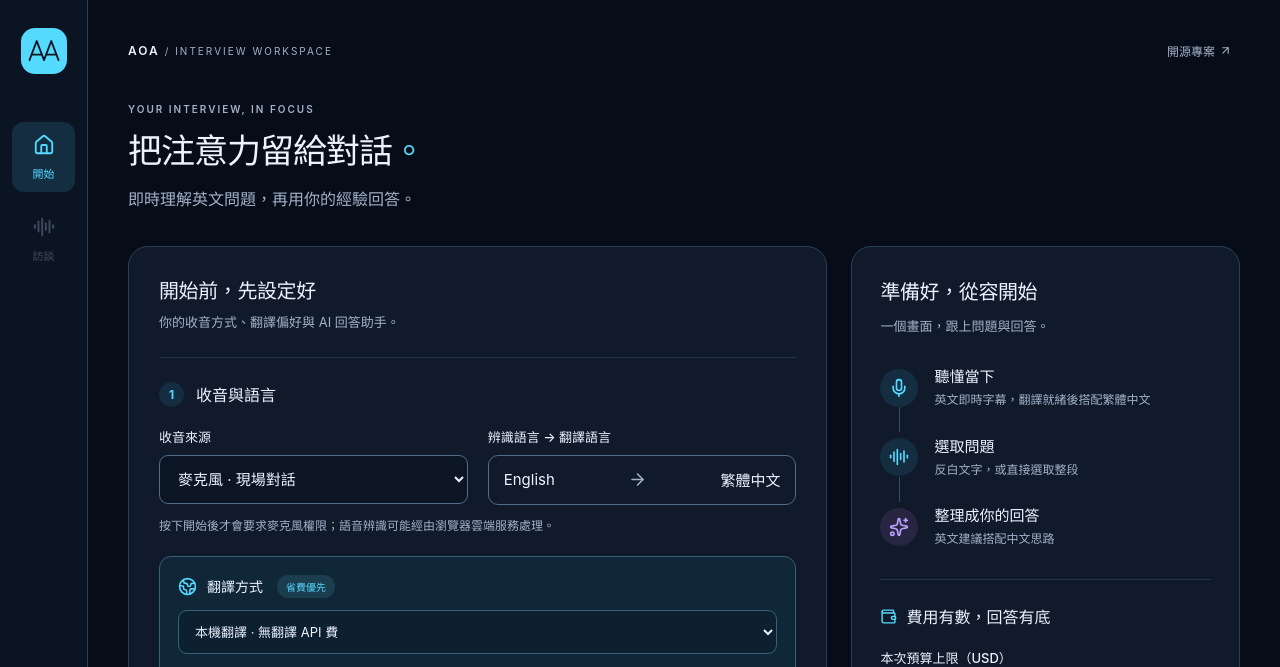
non-secret setup preferences › continues to allow explicit choices when storage reads and writes are denied
Select "雲端翻譯 · 會使用付費 API" in the dropdown labelled "翻譯方式" at (478, 632), box [178,610,777,654]
(page scrolled)
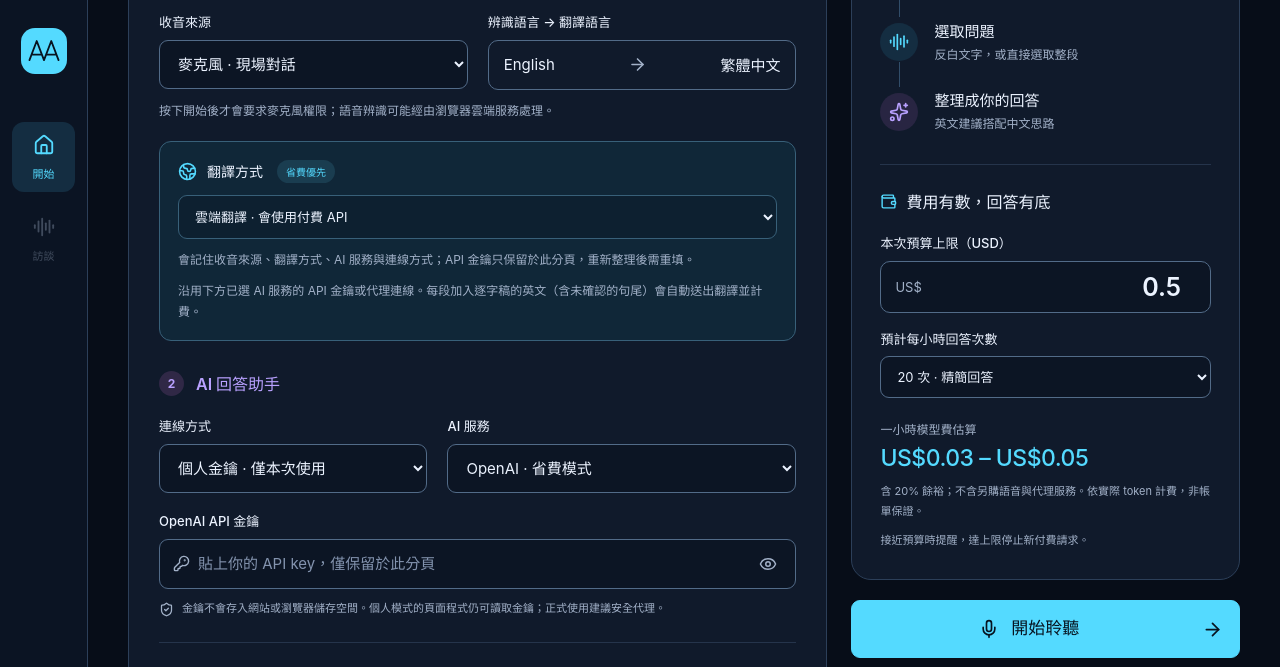
Type "test-only-key" into the password field labelled "OpenAI API 金鑰" at (470, 564), box [198,540,741,588]
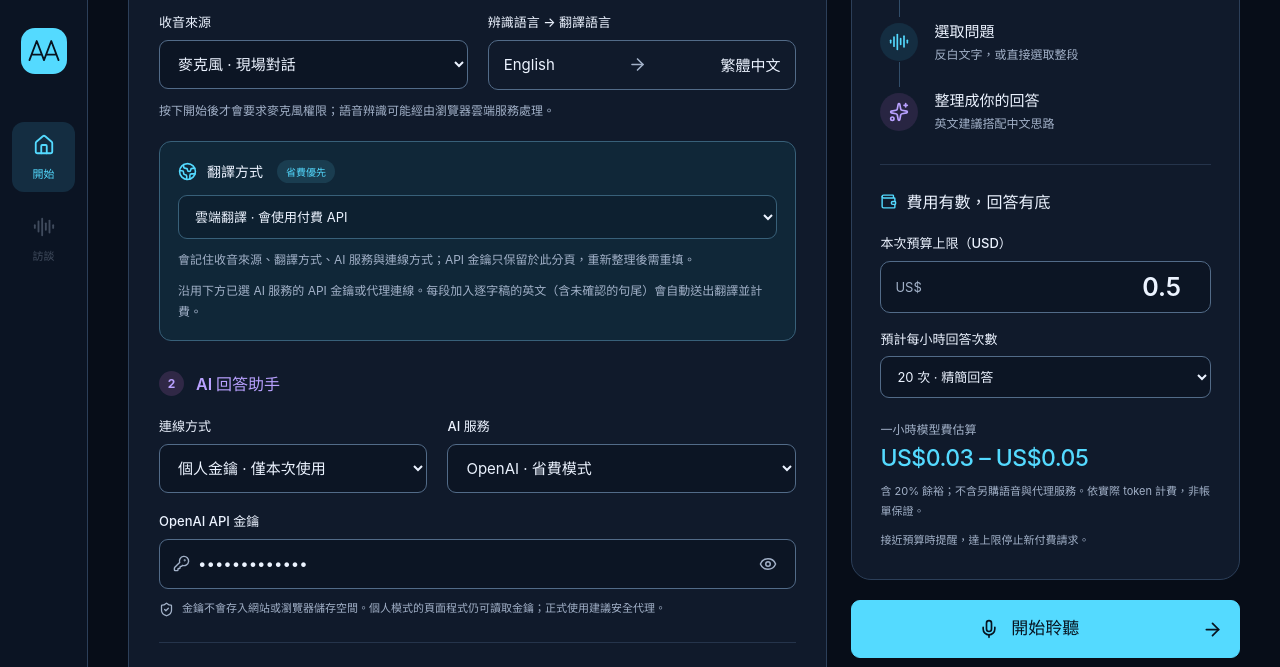
Click the button "開始聆聽" at (1046, 629), box [851,600,1240,658]
(page scrolled)
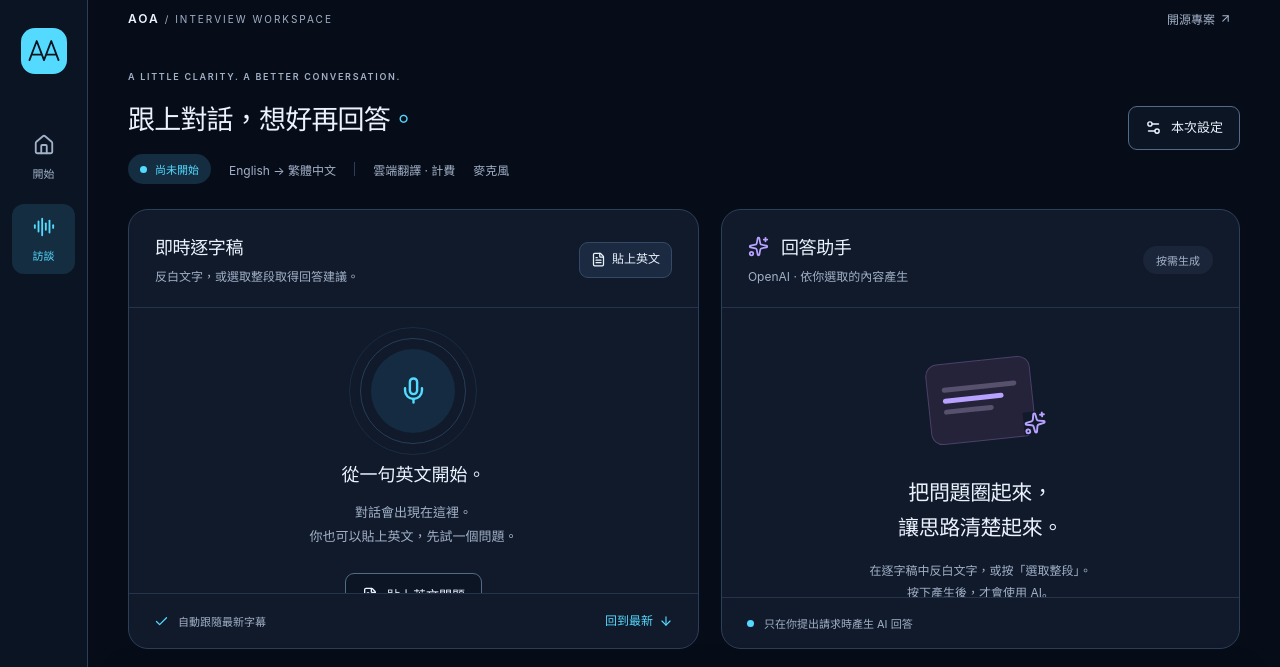
Expected: the element showing "從一句英文開始。 對話會出現在這裡。你也可以貼上英文，先試一個問題。 貼上英文問題" is shown, [310,349,518,617]
